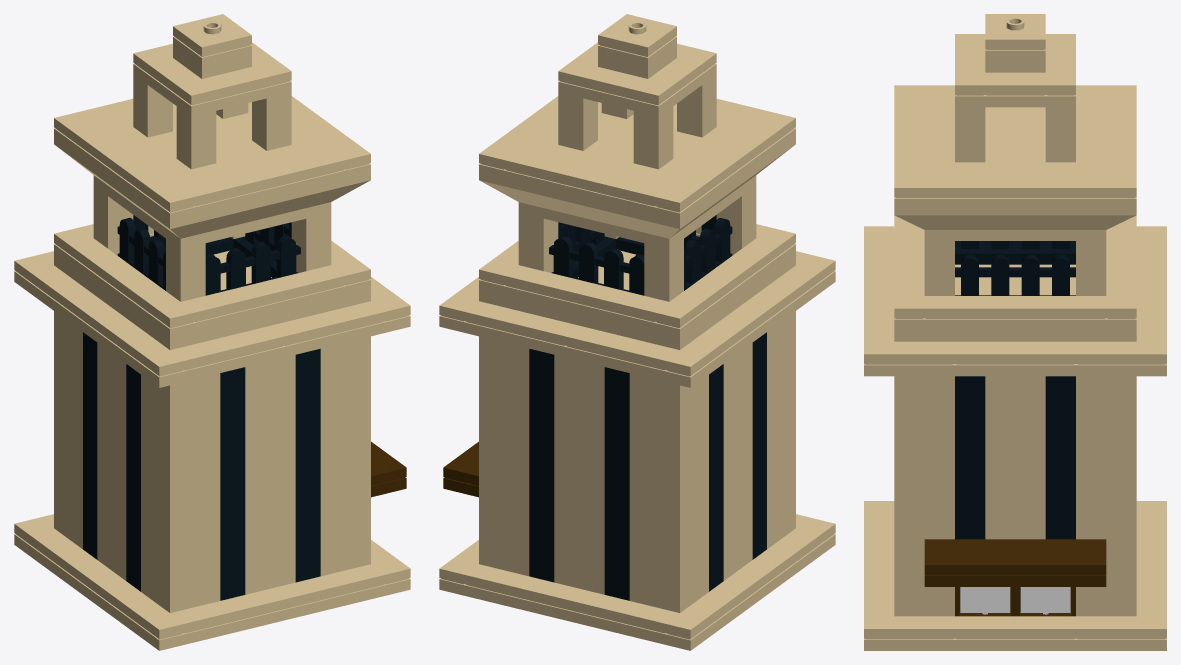
3 renders of one model, left to right at view 1: azimuth 30°, elevation 25°; view 2: azimuth 150°, elevation 25°; view 3: azimuth 270°, elevation 25°, orthographic. The views are drawn at different scales.
Visible parts, largest first — view 1: 迎泽大桥中; view 2: 迎泽大桥中; view 3: 迎泽大桥中.
Part boxes in pixels (<box>): 迎泽大桥中: <box>14,14,410,650</box>; 迎泽大桥中: <box>439,14,835,650</box>; 迎泽大桥中: <box>864,14,1166,650</box>.
Size of the model in its own units: 220 by 412 by 200.
